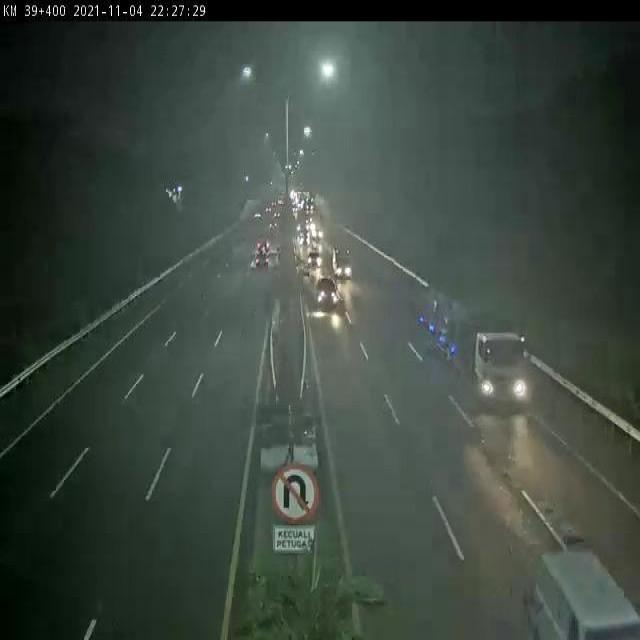car: (538, 554, 640, 640), (314, 276, 338, 304), (253, 253, 270, 272)
truck-xl-: (414, 288, 529, 408)
